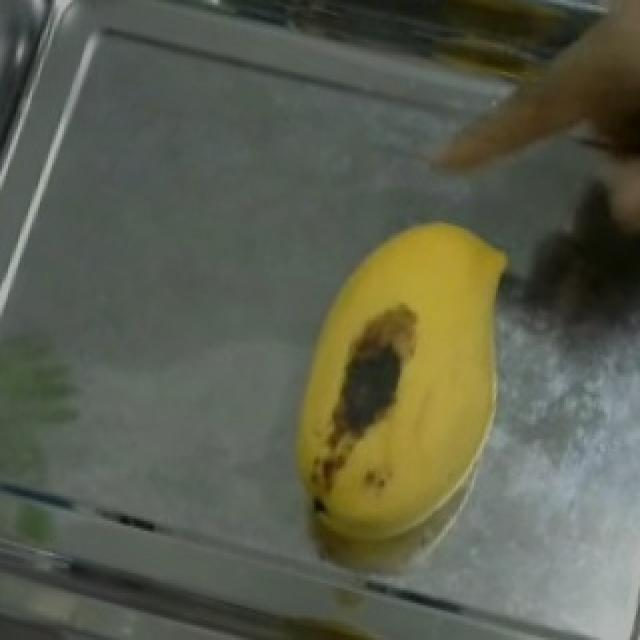fruit: (300, 174, 560, 570)
